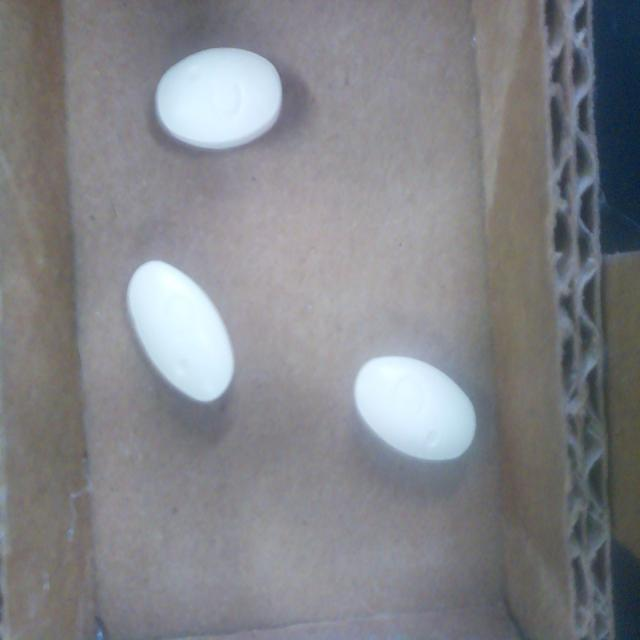pill: (126, 260, 235, 403), (155, 48, 282, 149), (354, 356, 476, 461)
